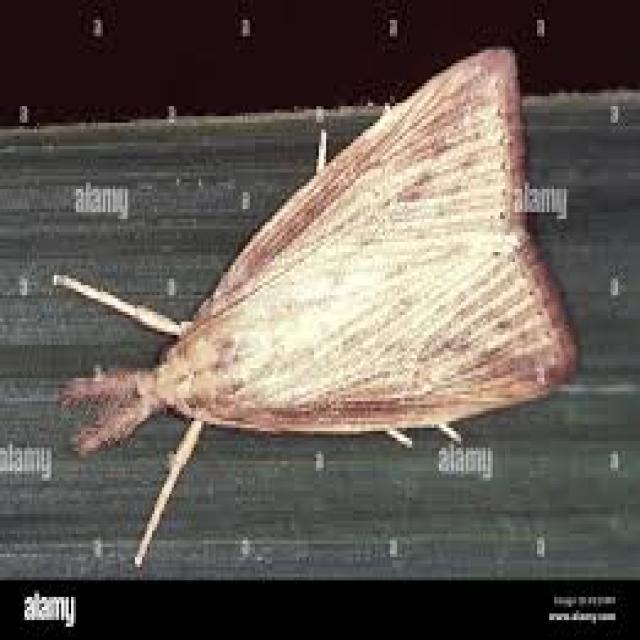yellow-stem-borer: (43, 36, 574, 574)
